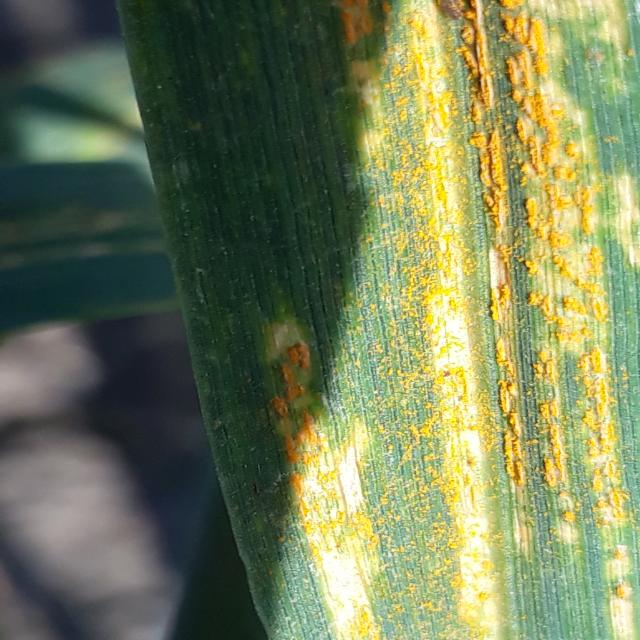yellow_rust: (118, 4, 640, 630)
